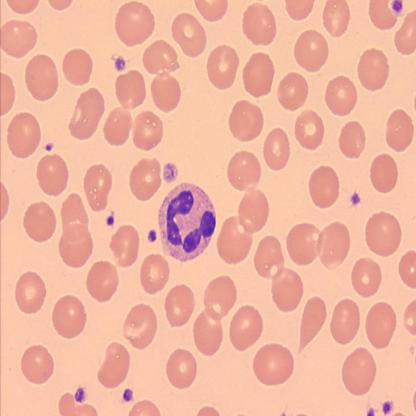Segmented neutrophil: (156, 178, 218, 264)
